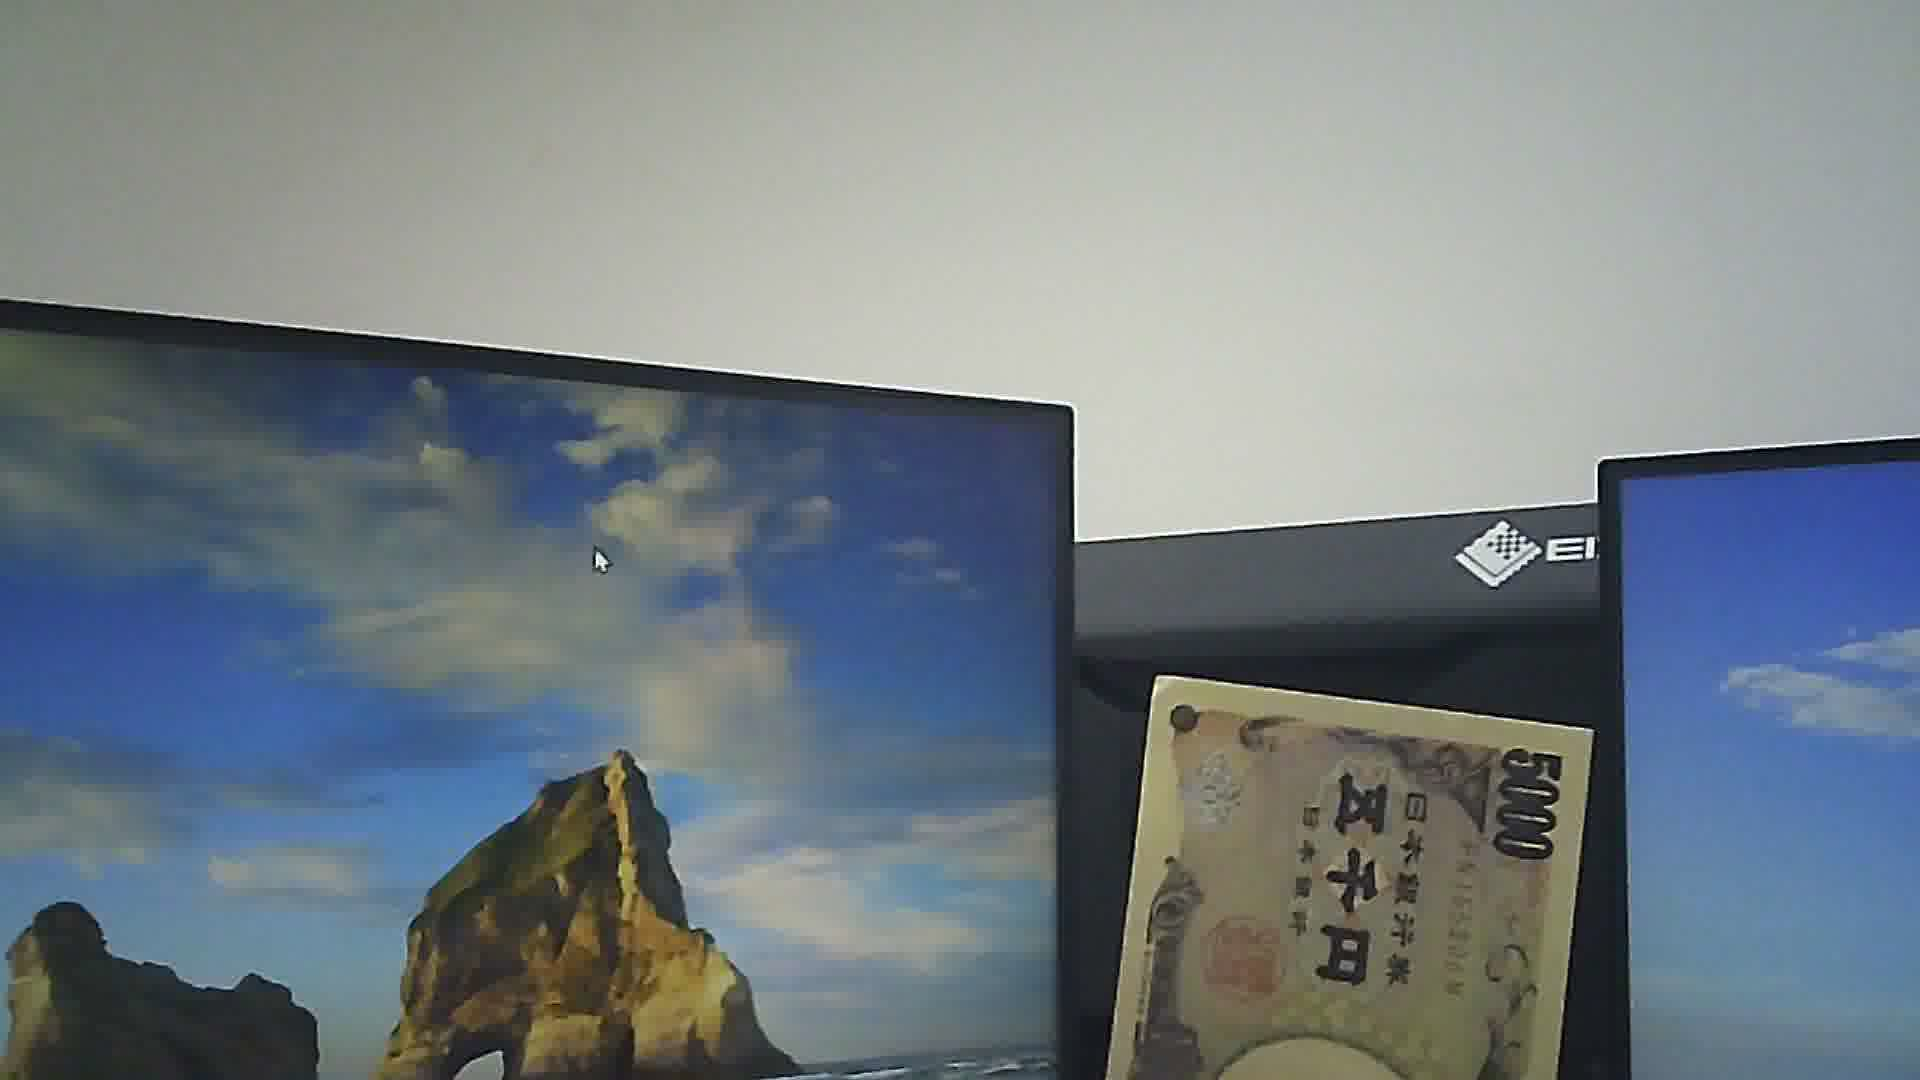5,000 Yen: (1106, 665, 1568, 1063)
